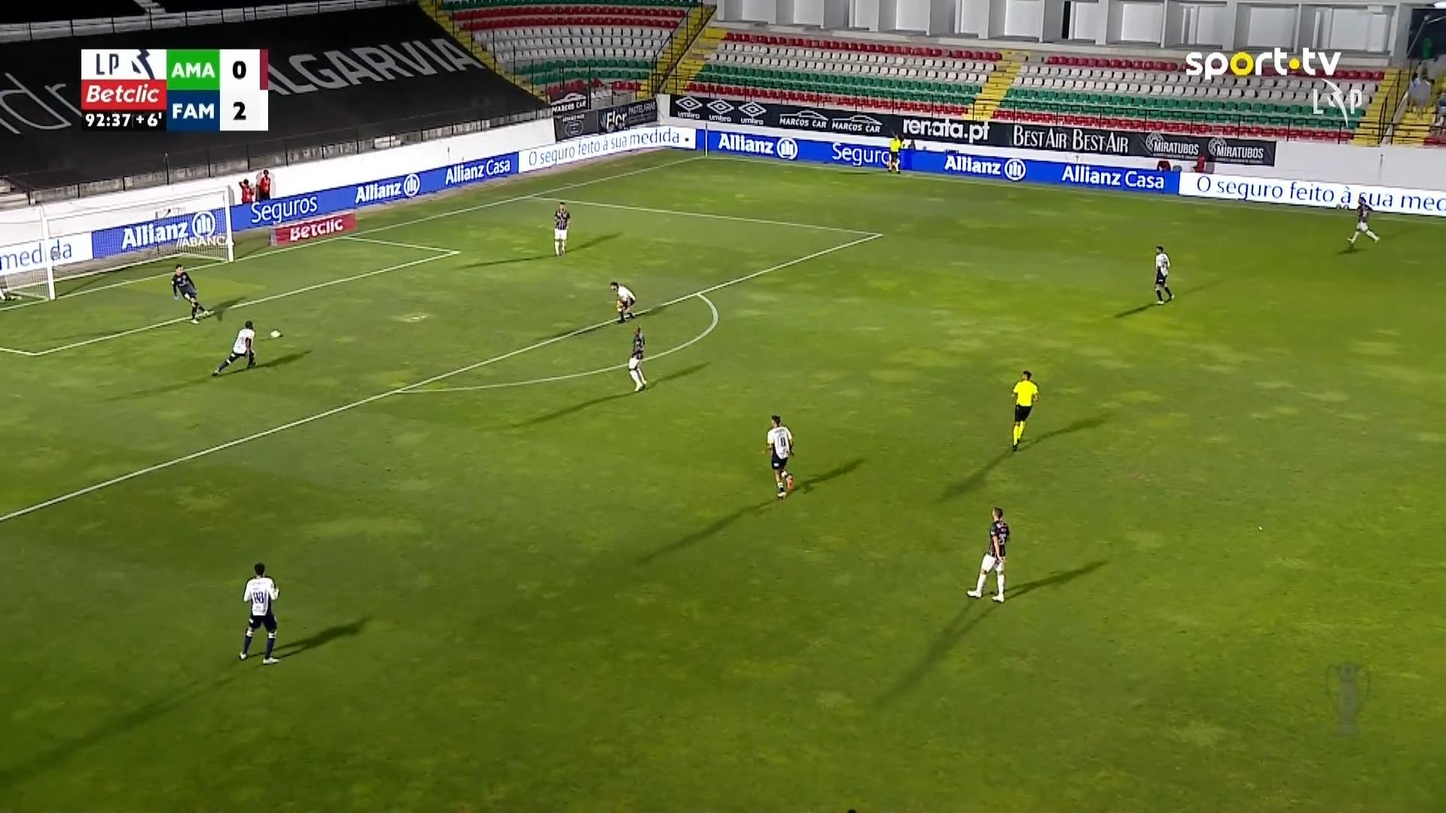ball: (269, 330, 281, 339)
goalkeeper: (170, 263, 206, 324)
player: (237, 562, 280, 664), (966, 505, 1010, 602), (764, 413, 795, 498), (212, 320, 256, 376), (1346, 193, 1378, 244), (627, 325, 647, 392), (1153, 245, 1173, 305), (609, 280, 636, 323), (552, 201, 570, 257)
referee: (1009, 369, 1039, 451), (886, 132, 905, 173)
